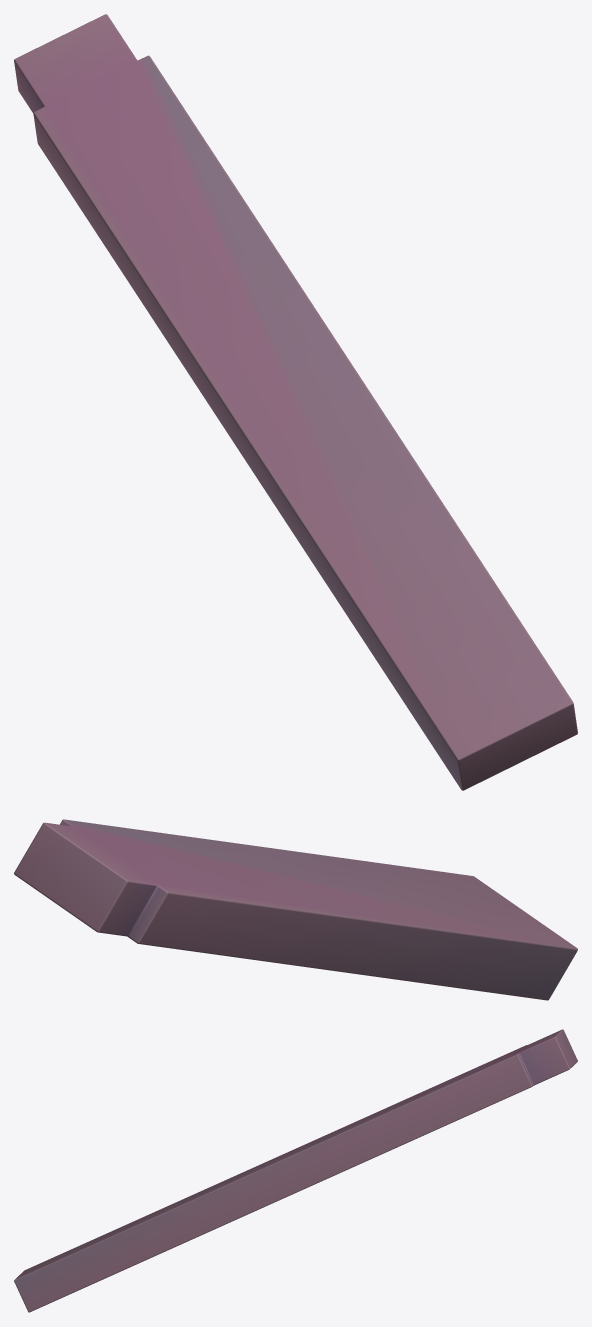
3 views of the same model, one above another, from view 1: azimuth 30°, elevation 25°; view 2: azimuth 150°, elevation 25°; view 3: azimuth 270°, elevation 25° (orthographic). The views are drawn at different scales.
Parts seen in each view (by area): view 1: bar_solid; view 2: bar_solid; view 3: bar_solid.
Part boxes in pixels (x1,y1,x2,y2): bar_solid: (14,14,577,790); bar_solid: (14,819,577,1000); bar_solid: (14,1029,577,1312).
Bounding box in the file's own units: 0.4401 × 1.35 × 2.43.
